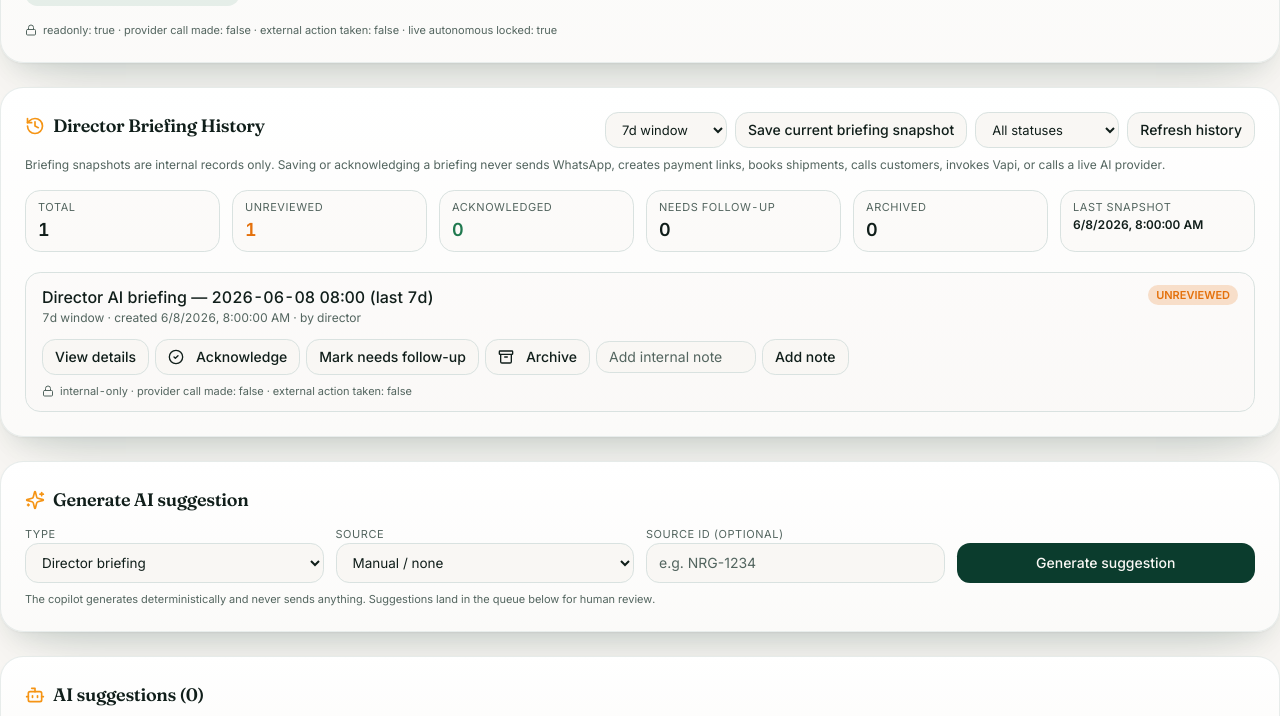
Scenario: Phase 16O — Director Briefing History › View details fetches + renders snapshot detail
(page scrolled)
Click the button with test id "ai-briefing-snapshot-view-1": (96, 357) top-left (42, 339), bottom-right (149, 375)
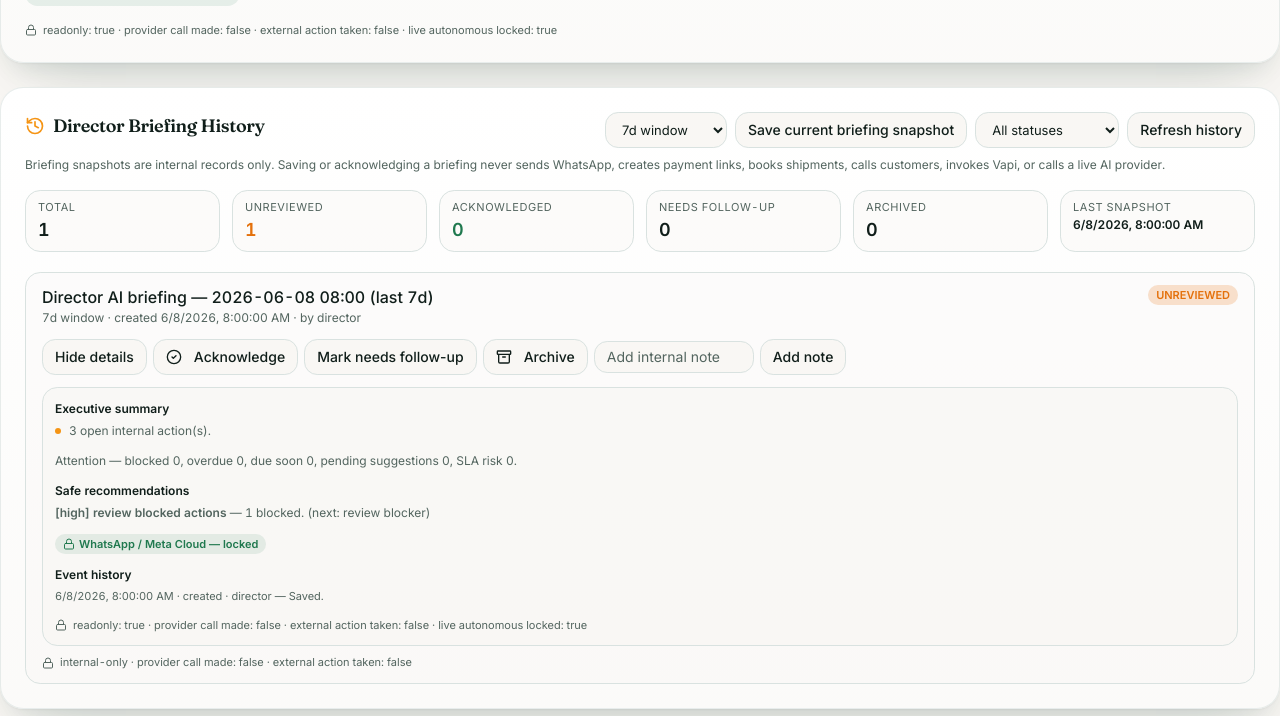
Check: the element with test id "ai-briefing-snapshot-detail-1" is shown, box top-left (42, 387), bottom-right (1238, 646)
Check: the element with test id "ai-briefing-snapshot-events-1" is shown, box top-left (55, 567), bottom-right (324, 603)
